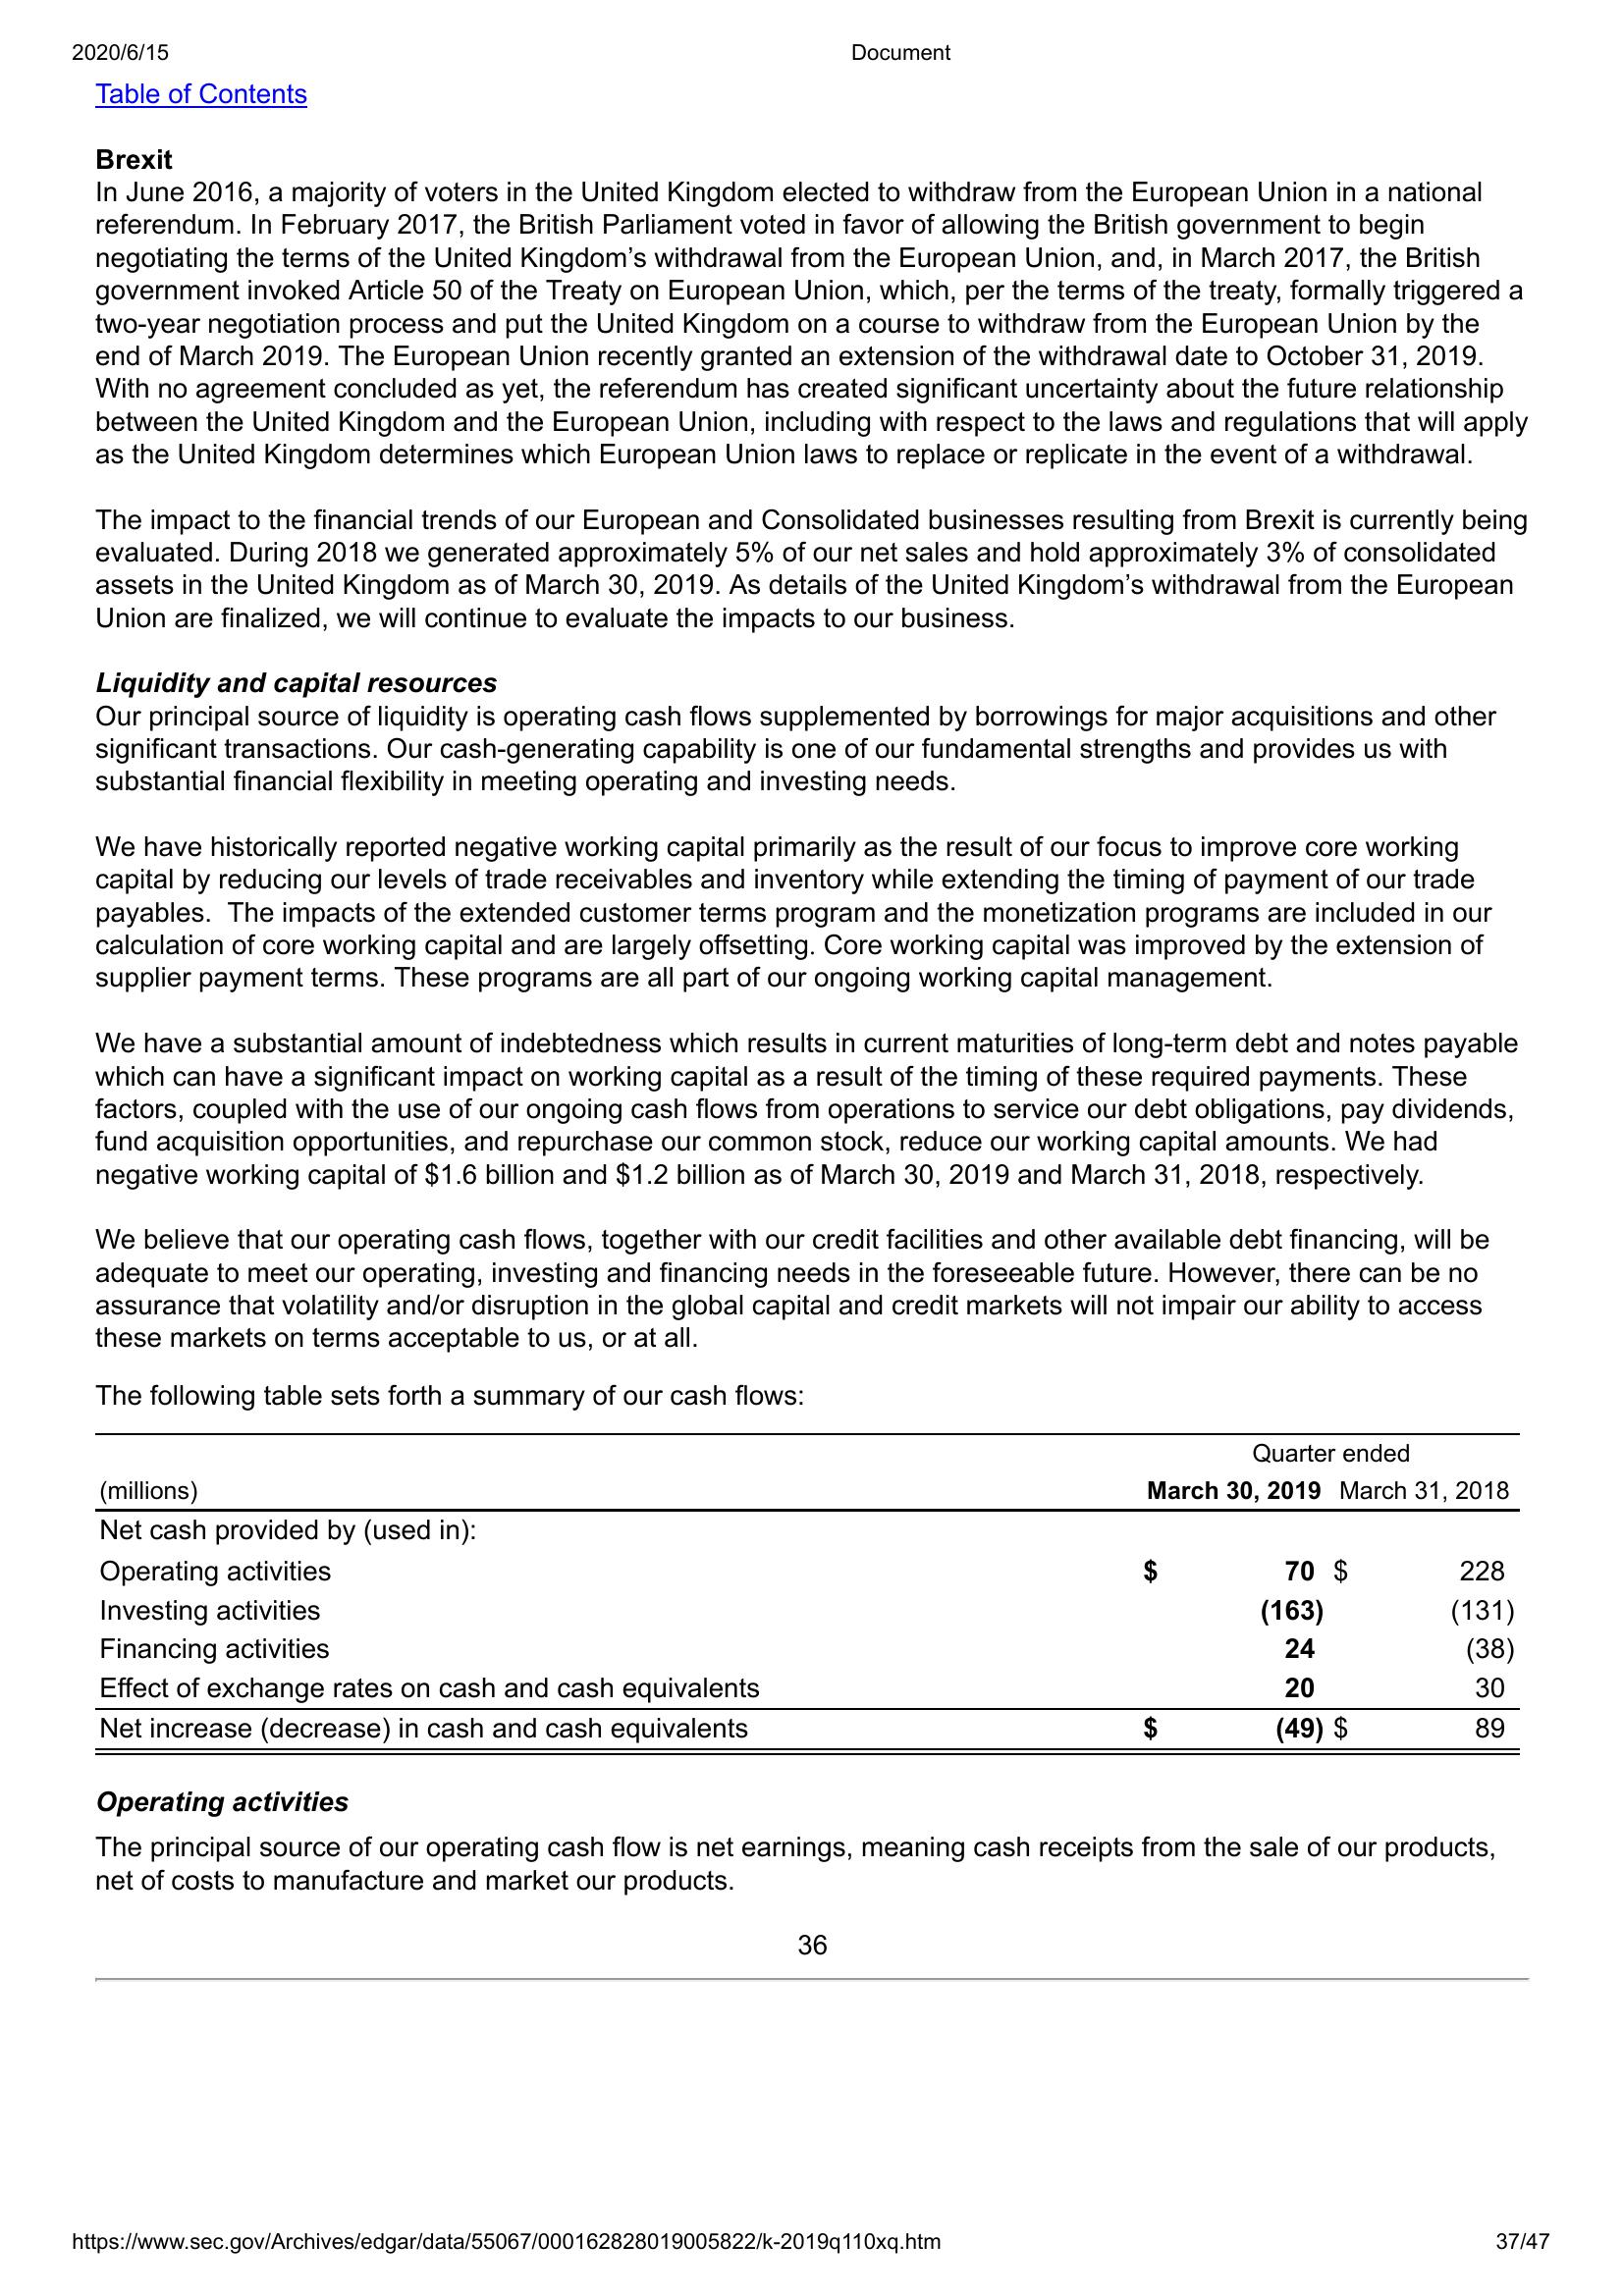table: (88, 1425, 1526, 1762)
